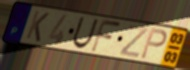4: (47, 13, 69, 47)
F: (89, 18, 122, 54)
K: (24, 9, 51, 44)
P: (139, 27, 169, 61)
U: (71, 16, 100, 50)
Z: (118, 25, 149, 60)
